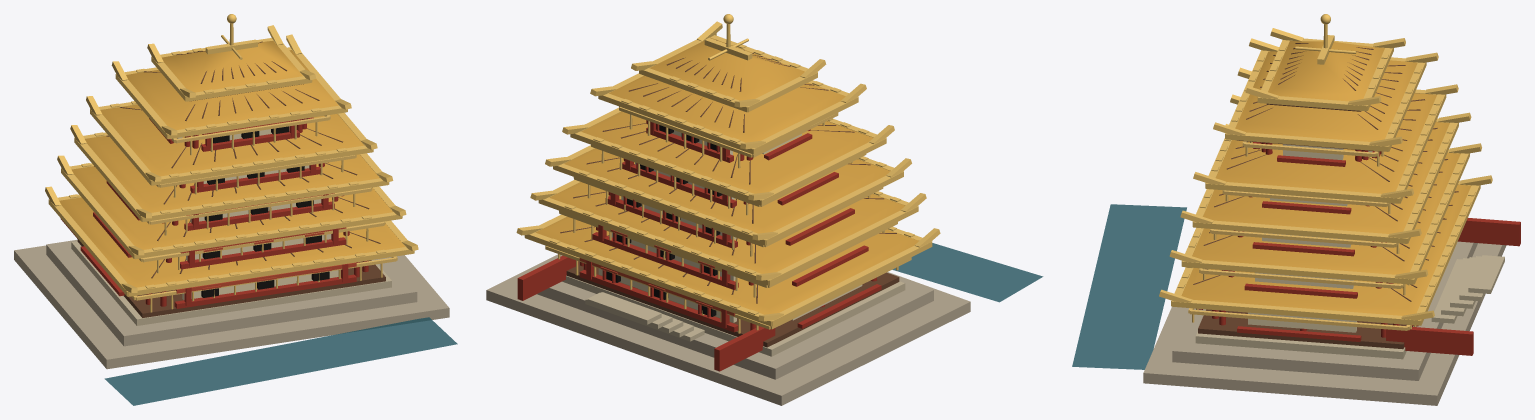
The picture shows the model from 3 angles, left to right: view 1: azimuth 30°, elevation 25°; view 2: azimuth 150°, elevation 25°; view 3: azimuth 270°, elevation 25°; orthographic projection. The views are drawn at different scales.
Visible parts, largest first — view 1: SnakeHill_Lower_Terrace, Yangtze_River_Context, SnakeHill_Upper_Terrace, Floor_4_Yellow_Glazed_Hip_Roof, Floor_1_Yellow_Glazed_Hip_Roof, Floor_2_Yellow_Glazed_Hip_Roof, Floor_5_Yellow_Glazed_Hip_Roof, Floor_3_Yellow_Glazed_Hip_Roof, Top_Crown_Yellow_Glazed_Roof, Viewing_Deck_Back_Rail (×5), Main_Platform_Slab, Floor_1_Yellow_Glazed_Hip_Roof_back_gold_eave (+21 smaller); view 2: SnakeHill_Lower_Terrace, Floor_4_Yellow_Glazed_Hip_Roof, Floor_1_Yellow_Glazed_Hip_Roof, Floor_2_Yellow_Glazed_Hip_Roof, SnakeHill_Upper_Terrace, Floor_3_Yellow_Glazed_Hip_Roof, Floor_5_Yellow_Glazed_Hip_Roof, Top_Crown_Yellow_Glazed_Roof, Yangtze_River_Context, Main_Platform_Slab, Floor_1_Shadow_Platform, Floor_1_Yellow_Glazed_Hip_Roof_front_gold_eave (+25 smaller); view 3: Yangtze_River_Context, SnakeHill_Lower_Terrace, Floor_4_Yellow_Glazed_Hip_Roof, SnakeHill_Upper_Terrace, Floor_1_Yellow_Glazed_Hip_Roof, Floor_2_Yellow_Glazed_Hip_Roof, Floor_5_Yellow_Glazed_Hip_Roof, Floor_3_Yellow_Glazed_Hip_Roof, Top_Crown_Yellow_Glazed_Roof, Viewing_Deck_Right_Rail (×5), Floor_1_Shadow_Platform, Main_Platform_Slab (+29 smaller).
Part boxes in pixels (left/top/right/bottom): SnakeHill_Lower_Terrace: left=14, top=245, right=449, bottom=369; Yangtze_River_Context: left=104, top=317, right=457, bottom=405; SnakeHill_Upper_Terrace: left=46, top=239, right=417, bottom=346; Floor_4_Yellow_Glazed_Hip_Roof: left=100, top=104, right=363, bottom=176; Floor_1_Yellow_Glazed_Hip_Roof: left=59, top=197, right=405, bottom=287; Floor_2_Yellow_Glazed_Hip_Roof: left=72, top=166, right=392, bottom=249; Floor_5_Yellow_Glazed_Hip_Roof: left=126, top=50, right=338, bottom=129; Floor_3_Yellow_Glazed_Hip_Roof: left=85, top=136, right=379, bottom=212; Top_Crown_Yellow_Glazed_Roof: left=162, top=41, right=302, bottom=92; Viewing_Deck_Back_Rail (×5): left=136, top=116, right=396, bottom=300; Main_Platform_Slab: left=71, top=241, right=391, bottom=325; Floor_1_Yellow_Glazed_Hip_Roof_back_gold_eave: left=128, top=247, right=414, bottom=296; SnakeHill_Lower_Terrace: left=486, top=254, right=970, bottom=405; Floor_4_Yellow_Glazed_Hip_Roof: left=581, top=111, right=873, bottom=193; Floor_1_Yellow_Glazed_Hip_Roof: left=536, top=216, right=918, bottom=314; Floor_2_Yellow_Glazed_Hip_Roof: left=549, top=182, right=905, bottom=273; SnakeHill_Upper_Terrace: left=537, top=277, right=933, bottom=379; Floor_3_Yellow_Glazed_Hip_Roof: left=564, top=148, right=890, bottom=233; Floor_5_Yellow_Glazed_Hip_Roof: left=609, top=75, right=845, bottom=142; Top_Crown_Yellow_Glazed_Roof: left=649, top=37, right=804, bottom=100; Yangtze_River_Context: left=892, top=243, right=1043, bottom=302; Main_Platform_Slab: left=562, top=275, right=905, bottom=356; Floor_1_Shadow_Platform: left=566, top=261, right=899, bottom=347; Floor_1_Yellow_Glazed_Hip_Roof_front_gold_eave: left=525, top=232, right=772, bottom=326; Yangtze_River_Context: left=1072, top=204, right=1186, bottom=369; SnakeHill_Lower_Terrace: left=1143, top=243, right=1506, bottom=405; Floor_4_Yellow_Glazed_Hip_Roof: left=1216, top=93, right=1436, bottom=193; SnakeHill_Upper_Terrace: left=1172, top=241, right=1477, bottom=380; Floor_1_Yellow_Glazed_Hip_Roof: left=1181, top=184, right=1470, bottom=315; Floor_2_Yellow_Glazed_Hip_Roof: left=1192, top=152, right=1460, bottom=274; Floor_5_Yellow_Glazed_Hip_Roof: left=1235, top=51, right=1417, bottom=141; Floor_3_Yellow_Glazed_Hip_Roof: left=1203, top=122, right=1449, bottom=233; Top_Crown_Yellow_Glazed_Roof: left=1268, top=41, right=1384, bottom=101; Viewing_Deck_Right_Rail (×5): left=1190, top=142, right=1407, bottom=330; Floor_1_Shadow_Platform: left=1198, top=309, right=1413, bottom=349; Main_Platform_Slab: left=1195, top=326, right=1417, bottom=359.
Bounding box in the file's own units: 10.67 × 7.48 × 10.21.
